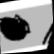correct: (0, 9, 32, 46)
